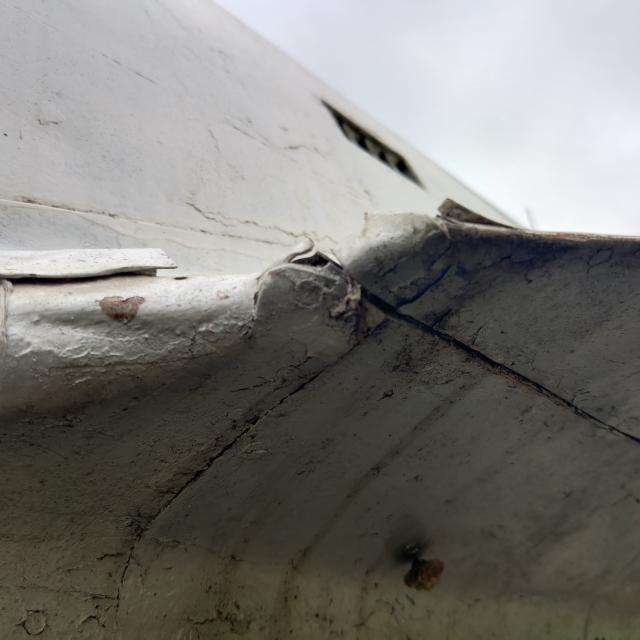crack: (408, 179, 534, 258), (278, 222, 356, 290)
